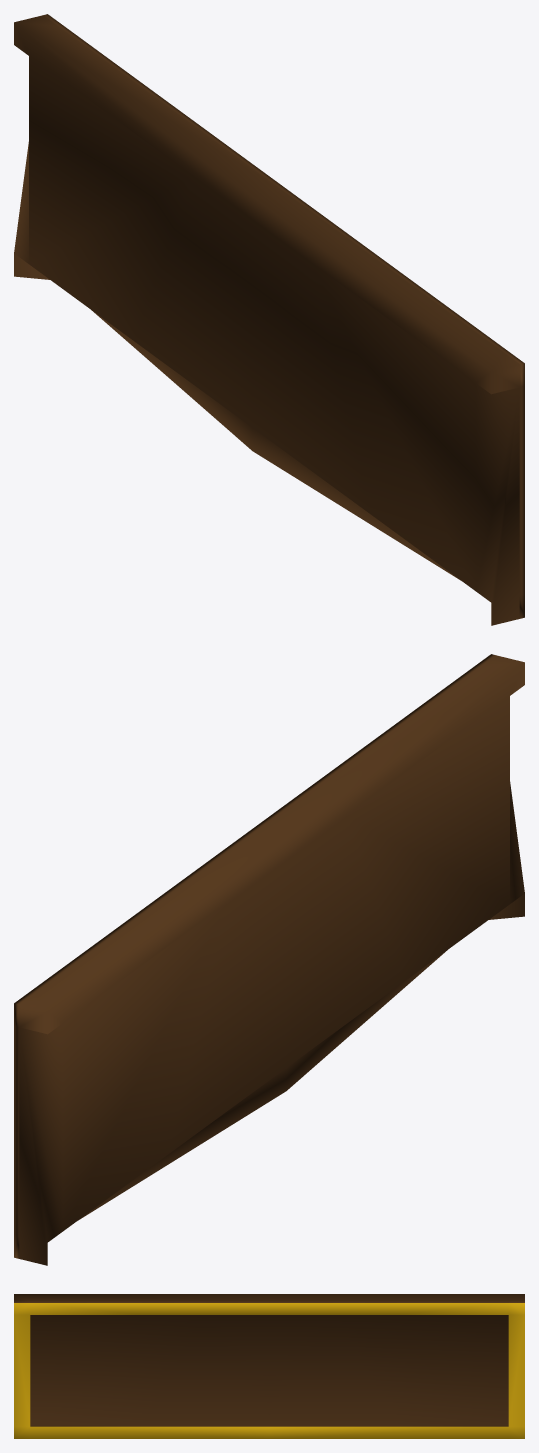
File: Sign.fbx
The picture shows the model from 3 angles, top to bottom: view 1: azimuth 30°, elevation 25°; view 2: azimuth 150°, elevation 25°; view 3: azimuth 270°, elevation 25°; orthographic projection. The views are drawn at different scales.
Visible parts, largest first — view 1: Cube.001; view 2: Cube.001; view 3: Cube.001.
Part boxes in pixels (x1,y1,x2,y2): Cube.001: [14, 14, 524, 625]; Cube.001: [14, 654, 524, 1265]; Cube.001: [14, 1294, 524, 1438].
Bounding box in the file's own units: 19.54 × 140 × 478.
